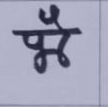au_matra: (43, 5, 75, 58)
